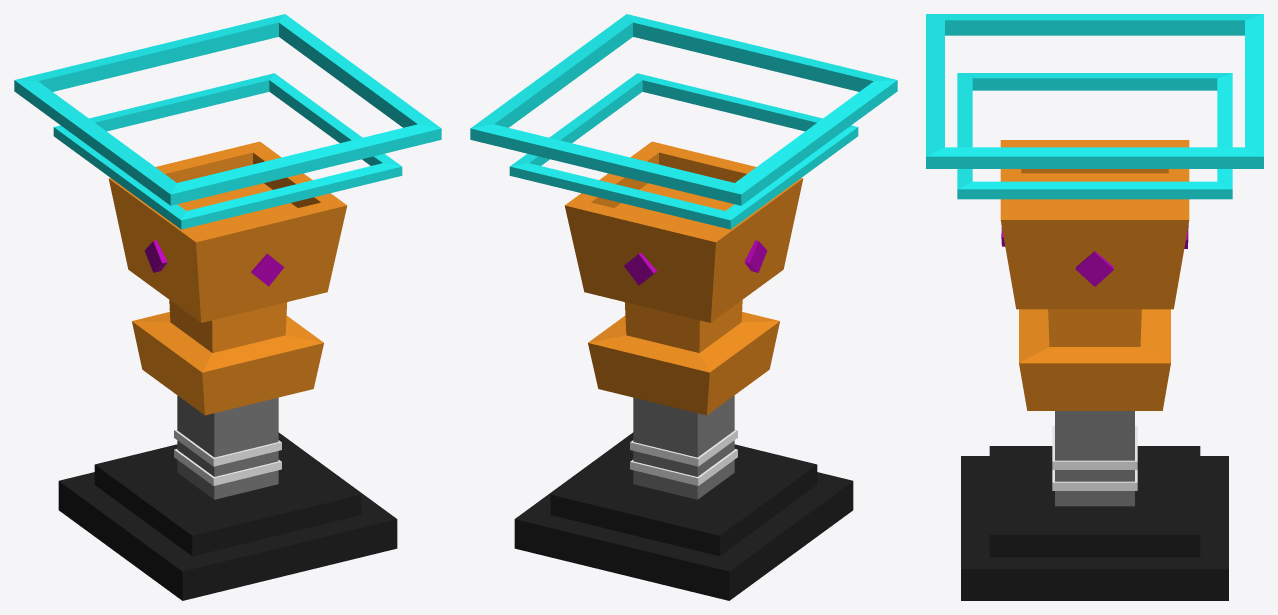
Rendered from Goal.fbx.
3 views of the same model, side by side, from view 1: azimuth 30°, elevation 25°; view 2: azimuth 150°, elevation 25°; view 3: azimuth 270°, elevation 25° (orthographic). The views are drawn at different scales.
Parts seen in each view (by area): view 1: APHead, APBody; view 2: APHead, APBody; view 3: APHead, APBody.
Part boxes in pixels (x1,y1,x2,y2): APHead: (14,14,441,485); APBody: (58,395,397,600); APHead: (470,14,897,485); APBody: (514,395,853,600); APHead: (926,14,1263,490); APBody: (961,411,1228,600).
Size of the model in its own units: 0.9777 by 1.47 by 0.9777.
